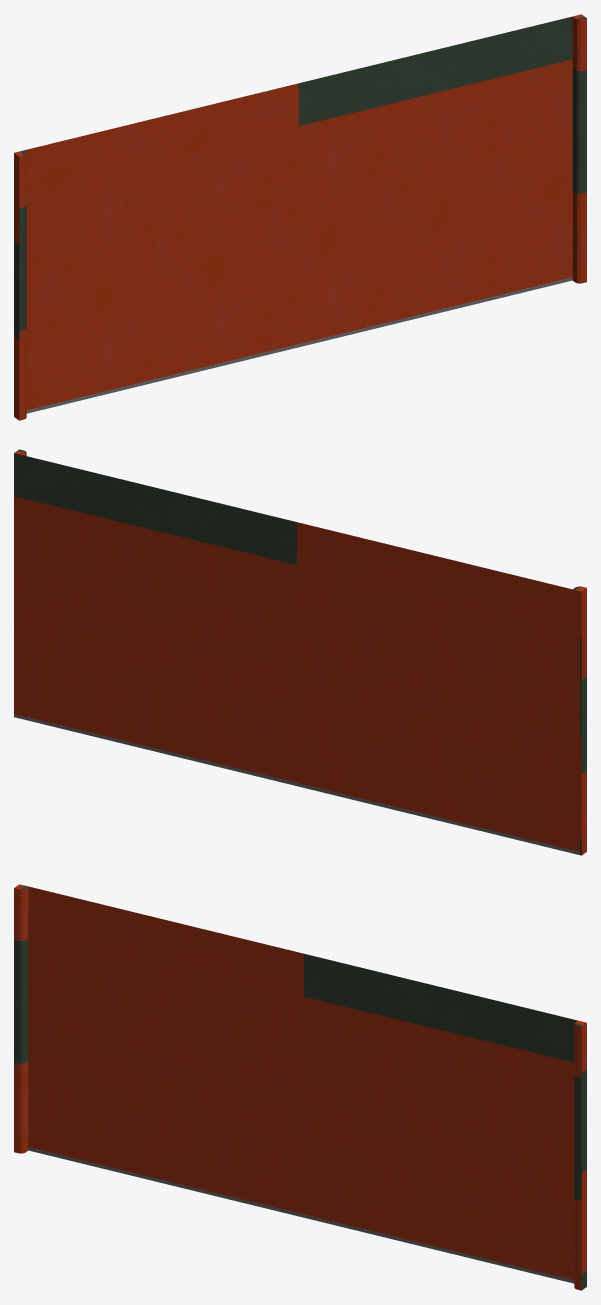
The model's file is wall2.fbx.
The picture shows the model from 3 angles, top to bottom: view 1: azimuth 30°, elevation 25°; view 2: azimuth 150°, elevation 25°; view 3: azimuth 330°, elevation 25°; orthographic projection.
Parts seen in each view (by area): view 1: pCube34; view 2: pCube34; view 3: pCube34.
Part boxes in pixels (bbox=[...]): pCube34: bbox=[14, 14, 586, 420]; pCube34: bbox=[14, 449, 586, 855]; pCube34: bbox=[14, 884, 586, 1290].
Bounding box in the file's own units: 5.8 × 2.58 × 0.0935.
